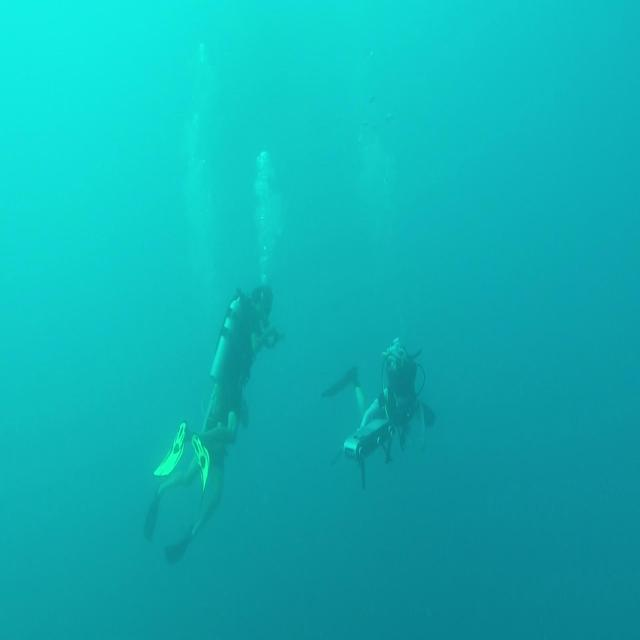human: (142, 282, 284, 563), (321, 336, 435, 490)
